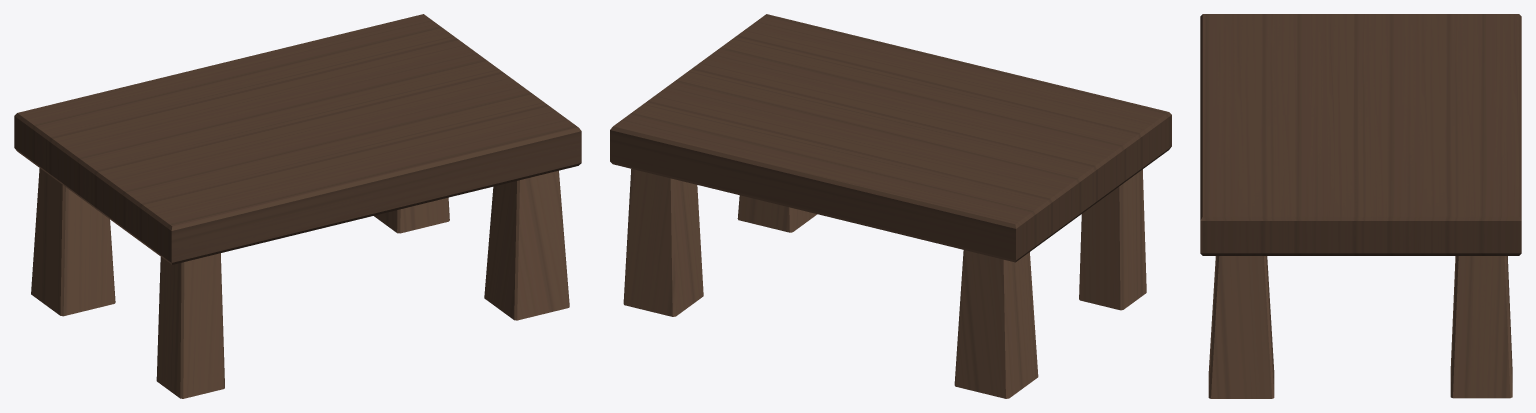
Rendered from CoffeeTable.fbx.
The picture shows the model from 3 angles, left to right: view 1: azimuth 30°, elevation 25°; view 2: azimuth 150°, elevation 25°; view 3: azimuth 270°, elevation 25°; orthographic projection. The views are drawn at different scales.
Visible parts, largest first — view 1: Coffee_Table; view 2: Coffee_Table; view 3: Coffee_Table.
Boxes of the visible parts, x1,y1,x2,y2 form: Coffee_Table: (14, 14, 581, 398); Coffee_Table: (610, 14, 1171, 398); Coffee_Table: (1200, 14, 1521, 398).
Size of the model in its own units: 123 by 51.82 by 81.6.
Materials: 1 (1 with a texture image).
